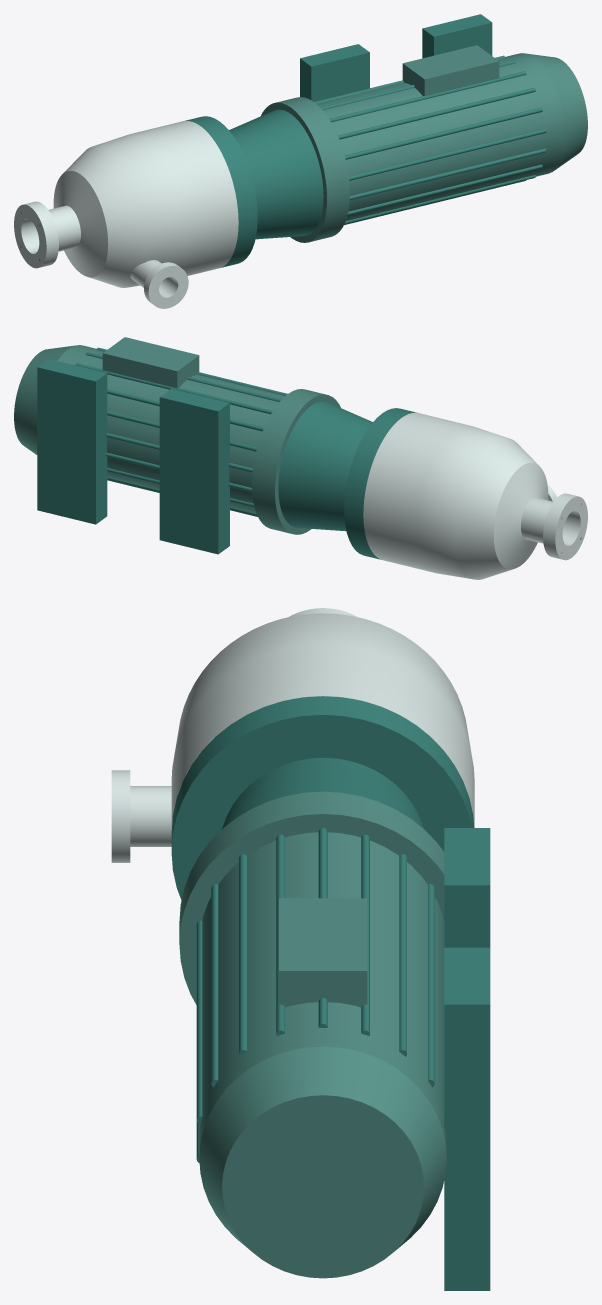
3 views of the same model, one above another, from view 1: azimuth 30°, elevation 25°; view 2: azimuth 150°, elevation 25°; view 3: azimuth 270°, elevation 25° (orthographic). The views are drawn at different scales.
Parts seen in each view (by area): view 1: 泵体_圆弧壳与轴向进液口, 电机_带筋机壳, 连接座_短连接段, 支脚_电机底脚, 电机_连接法兰, 电机_接线盒, 连接座_泵壳连接环, 电机_圆弧尾罩, 接口_朝上出液法兰, 电机_散热筋04, 电机_散热筋05, 电机_散热筋03 (+6 smaller); view 2: 泵体_圆弧壳与轴向进液口, 支脚_电机底脚, 电机_带筋机壳, 连接座_短连接段, 电机_连接法兰, 电机_接线盒, 连接座_泵壳连接环, 电机_圆弧尾罩, 电机_散热筋18, 电机_散热筋01, 电机_散热筋17, 电机_散热筋16 (+4 smaller); view 3: 电机_圆弧尾罩, 电机_带筋机壳, 泵体_圆弧壳与轴向进液口, 连接座_泵壳连接环, 支脚_电机底脚, 电机_连接法兰, 电机_接线盒, 连接座_短连接段, 接口_偏置竖向出液管, 接口_朝上出液法兰, 电机_散热筋03, 电机_散热筋04 (+6 smaller).
Boxes of the visible parts, x1=… form: 泵体_圆弧壳与轴向进液口: x1=14, y1=121, x2=238, y2=287; 电机_带筋机壳: x1=316, y1=53, x2=564, y2=220; 连接座_短连接段: x1=229, y1=109, x2=323, y2=239; 支脚_电机底脚: x1=300, y1=14, x2=492, y2=101; 电机_连接法兰: x1=261, y1=97, x2=349, y2=242; 电机_接线盒: x1=402, y1=45, x2=499, y2=96; 连接座_泵壳连接环: x1=185, y1=116, x2=257, y2=267; 电机_圆弧尾罩: x1=527, y1=53, x2=587, y2=170; 接口_朝上出液法兰: x1=144, y1=262, x2=188, y2=308; 电机_散热筋04: x1=345, y1=107, x2=542, y2=159; 电机_散热筋05: x1=349, y1=128, x2=546, y2=180; 电机_散热筋03: x1=338, y1=87, x2=535, y2=139; 泵体_圆弧壳与轴向进液口: x1=363, y1=412, x2=587, y2=579; 支脚_电机底脚: x1=37, y1=359, x2=229, y2=554; 电机_带筋机壳: x1=37, y1=345, x2=284, y2=512; 连接座_短连接段: x1=278, y1=401, x2=372, y2=531; 电机_连接法兰: x1=252, y1=389, x2=340, y2=534; 电机_接线盒: x1=102, y1=337, x2=199, y2=388; 连接座_泵壳连接环: x1=344, y1=408, x2=417, y2=559; 电机_圆弧尾罩: x1=14, y1=345, x2=74, y2=454; 电机_散热筋18: x1=75, y1=363, x2=272, y2=414; 电机_散热筋01: x1=86, y1=352, x2=281, y2=401; 电机_散热筋17: x1=107, y1=389, x2=263, y2=431; 电机_散热筋16: x1=107, y1=411, x2=257, y2=451; 电机_圆弧尾罩: x1=199, y1=1046, x2=446, y2=1278; 电机_带筋机壳: x1=199, y1=832, x2=446, y2=1157; 泵体_圆弧壳与轴向进液口: x1=171, y1=608, x2=474, y2=829; 连接座_泵壳连接环: x1=171, y1=696, x2=474, y2=900; 支脚_电机底脚: x1=444, y1=828, x2=490, y2=1290; 电机_连接法兰: x1=179, y1=791, x2=444, y2=1004; 电机_接线盒: x1=279, y1=898, x2=367, y2=1007; 连接座_短连接段: x1=221, y1=757, x2=424, y2=829; 接口_偏置竖向出液管: x1=130, y1=786, x2=171, y2=846; 接口_朝上出液法兰: x1=111, y1=770, x2=130, y2=862; 电机_散热筋03: x1=239, y1=854, x2=246, y2=1056; 电机_散热筋04: x1=211, y1=884, x2=218, y2=1087.
Size of the model in its own units: 2.03 by 0.52 by 0.624.
